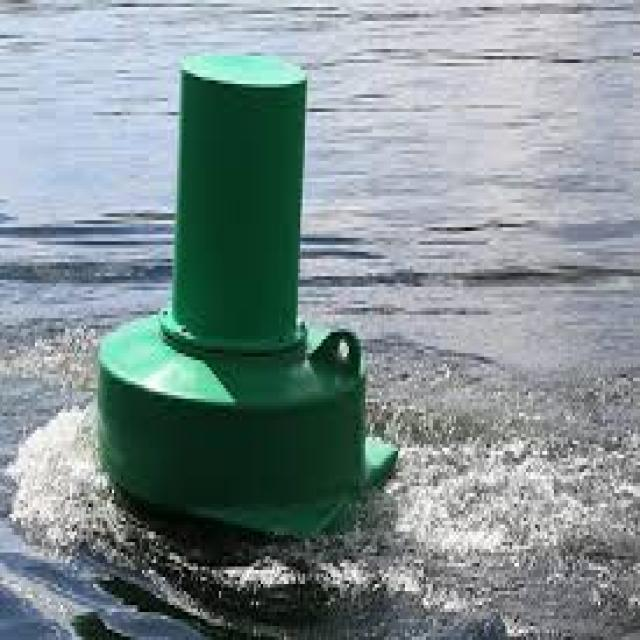marque: (94, 26, 405, 527)
